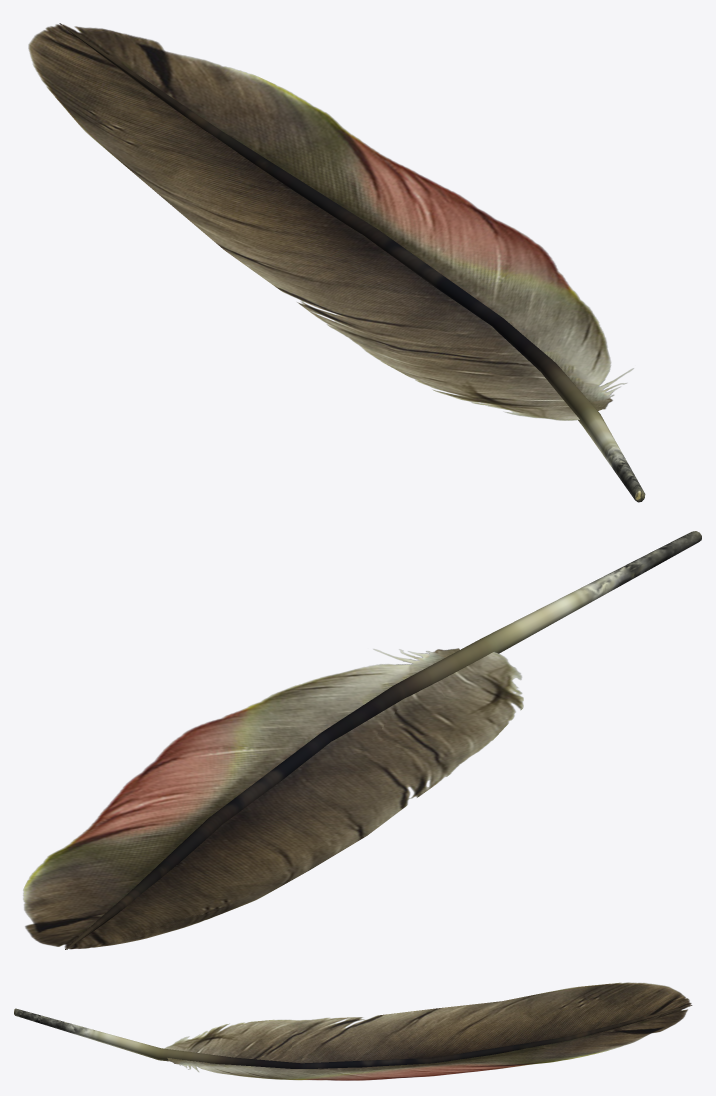
3 views of the same model, one above another, from view 1: azimuth 30°, elevation 25°; view 2: azimuth 150°, elevation 25°; view 3: azimuth 270°, elevation 25° (orthographic). The views are drawn at different scales.
Visible parts, largest first — view 1: Quill_LP; view 2: Quill_LP; view 3: Quill_LP.
Part boxes in pixels (x1=…): Quill_LP: x1=28, y1=23, x2=645, y2=502; Quill_LP: x1=23, y1=531, x2=701, y2=949; Quill_LP: x1=14, y1=982, x2=692, y2=1080.
Size of the model in its own units: 8.23 by 2.33 by 29.76.
1 material, 1 textured.
